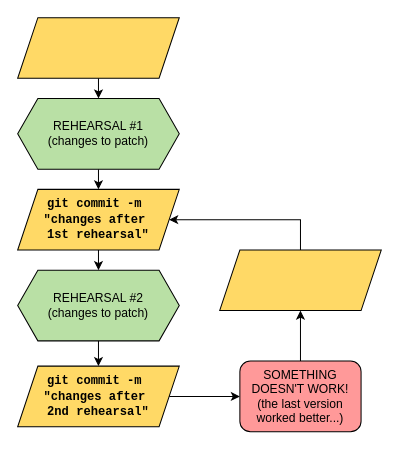
The diagram is 399 pixels wide and 449 high, and some of its shapes have lost their labels. The centre of each missing label's shape, as x and y in pixels:
"...all your commits before rehearsal week starts..." belongs at point (98, 47).
"git revert HEAD" belongs at point (300, 280).
